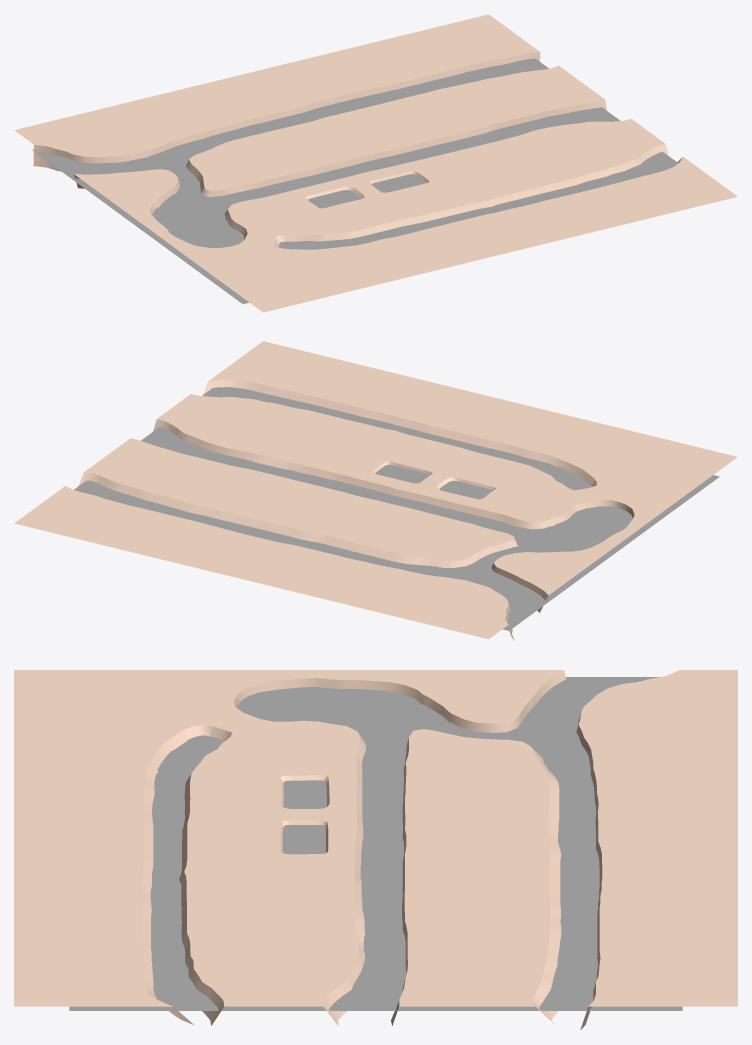
The model's file is SM_Ground_VU1.fbx.
The picture shows the model from 3 angles, top to bottom: view 1: azimuth 30°, elevation 25°; view 2: azimuth 150°, elevation 25°; view 3: azimuth 270°, elevation 25°; orthographic projection. The views are drawn at different scales.
Visible parts, largest first — view 1: round_low, river, paddy_field; view 2: round_low, river, paddy_field; view 3: round_low, river, paddy_field.
Part boxes in pixels (x1=…): round_low: x1=14, y1=14, x2=737, y2=312; river: x1=32, y1=58, x2=677, y2=303; paddy_field: x1=308, y1=174, x2=426, y2=208; round_low: x1=14, y1=341, x2=737, y2=640; river: x1=74, y1=387, x2=719, y2=630; paddy_field: x1=375, y1=464, x2=492, y2=499; round_low: x1=14, y1=670, x2=737, y2=1029; river: x1=69, y1=677, x2=682, y2=1010; paddy_field: x1=282, y1=780, x2=326, y2=854.
Bounding box in the file's own units: 10587 × 407 × 9558.
